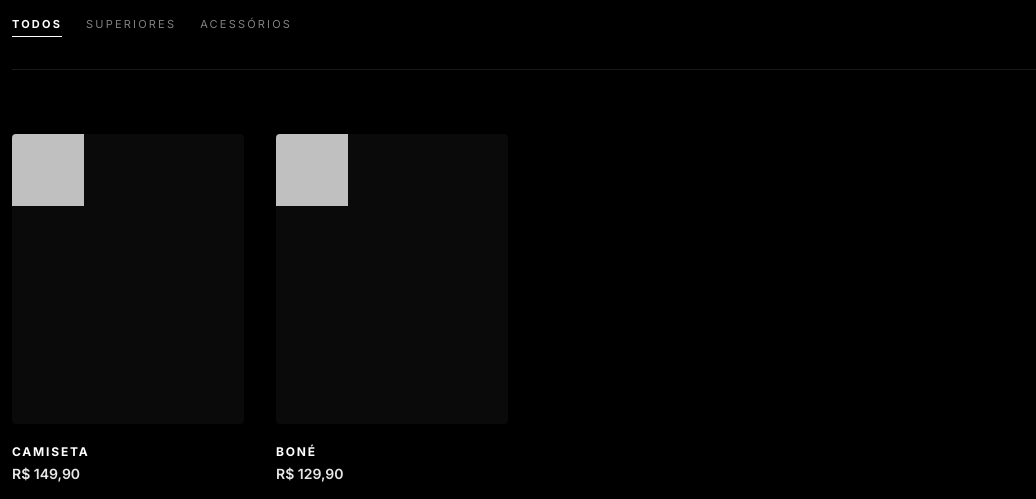
Scenario: ProductGrid › filtra por categoria e só mostra categorias com produto
Click the button "ACESSÓRIOS": (246, 24) [200, 12, 292, 36]
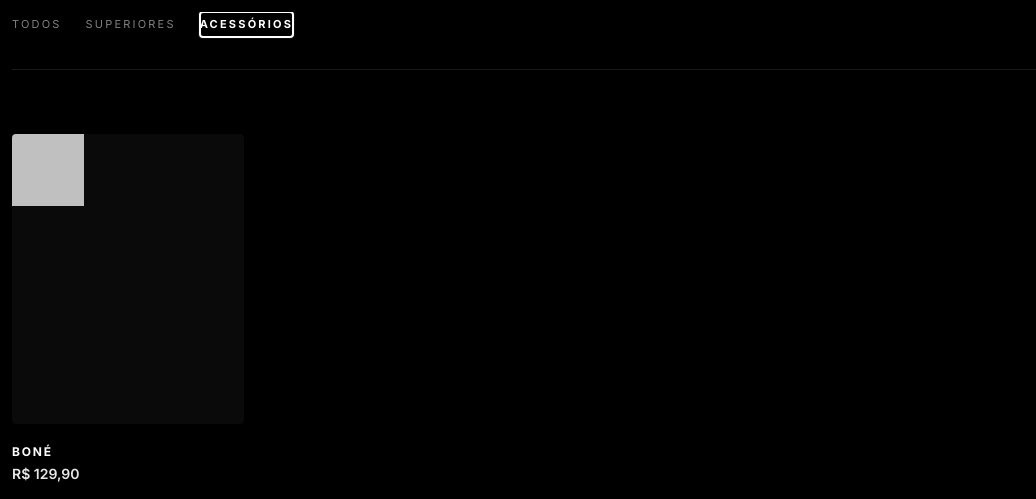
expect the link "Camiseta" is gone: met
